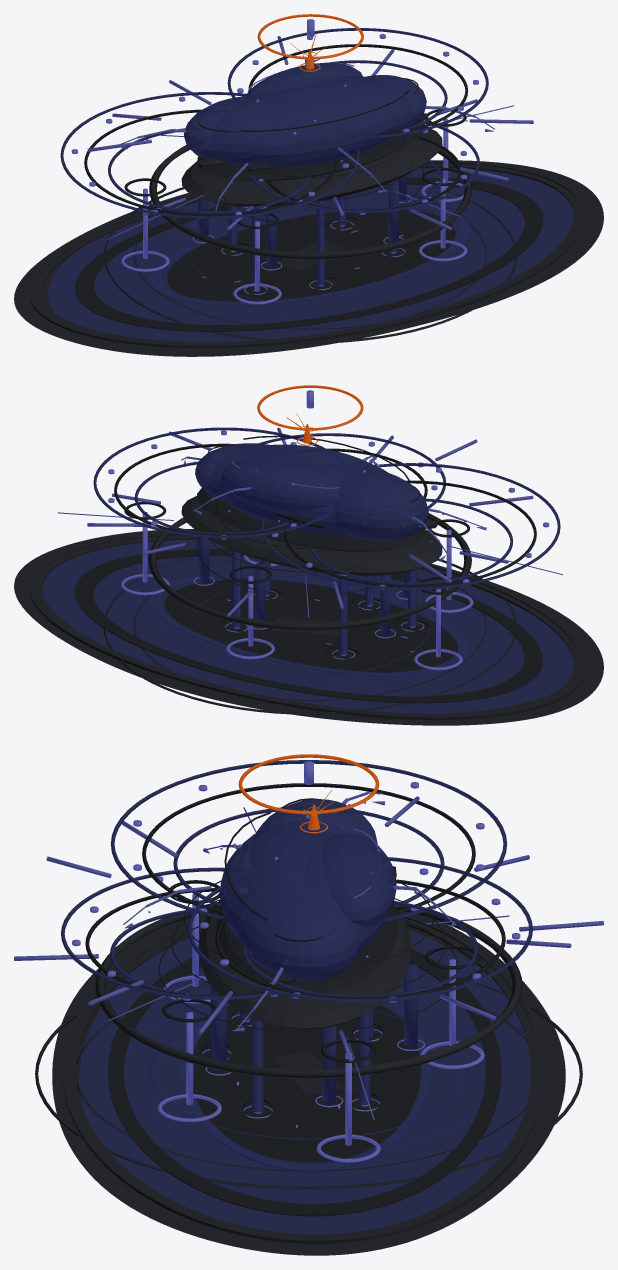
File: recovery-ext-hero-draft-s88.glb
3 renders of one model, top to bottom at view 1: azimuth 30°, elevation 25°; view 2: azimuth 150°, elevation 25°; view 3: azimuth 270°, elevation 25°, orthographic. The views are drawn at different scales.
Visible parts, largest first — view 1: recovery_s86_glass_hero_mesh, recovery_s86_detail_hero_mesh, recovery_s86_base_hero_mesh, recovery_s86_emissive_hero_mesh, recovery_s86_accent_hero_mesh, recovery_s86_energy_hero_mesh; view 2: recovery_s86_glass_hero_mesh, recovery_s86_detail_hero_mesh, recovery_s86_base_hero_mesh, recovery_s86_emissive_hero_mesh, recovery_s86_accent_hero_mesh, recovery_s86_energy_hero_mesh; view 3: recovery_s86_glass_hero_mesh, recovery_s86_base_hero_mesh, recovery_s86_detail_hero_mesh, recovery_s86_emissive_hero_mesh, recovery_s86_accent_hero_mesh, recovery_s86_energy_hero_mesh.
Boxes of the visible parts, box(x1,y1,x2,y2) form: recovery_s86_glass_hero_mesh: box(48, 28, 573, 341); recovery_s86_detail_hero_mesh: box(75, 44, 543, 331); recovery_s86_base_hero_mesh: box(14, 113, 603, 356); recovery_s86_emissive_hero_mesh: box(71, 19, 478, 304); recovery_s86_accent_hero_mesh: box(87, 36, 533, 239); recovery_s86_energy_hero_mesh: box(257, 14, 363, 71); recovery_s86_glass_hero_mesh: box(43, 427, 573, 713); recovery_s86_detail_hero_mesh: box(74, 435, 542, 703); recovery_s86_base_hero_mesh: box(14, 496, 603, 725); recovery_s86_emissive_hero_mesh: box(108, 390, 549, 670); recovery_s86_accent_hero_mesh: box(57, 427, 562, 617); recovery_s86_energy_hero_mesh: box(257, 385, 363, 445); recovery_s86_glass_hero_mesh: box(61, 760, 532, 1234); recovery_s86_base_hero_mesh: box(35, 900, 582, 1255); recovery_s86_detail_hero_mesh: box(85, 783, 505, 1216); recovery_s86_emissive_hero_mesh: box(72, 761, 520, 1162); recovery_s86_accent_hero_mesh: box(14, 791, 603, 1120); recovery_s86_energy_hero_mesh: box(238, 754, 379, 833).
Size of the model in its own units: 21.72 by 8.83 by 15.05.
